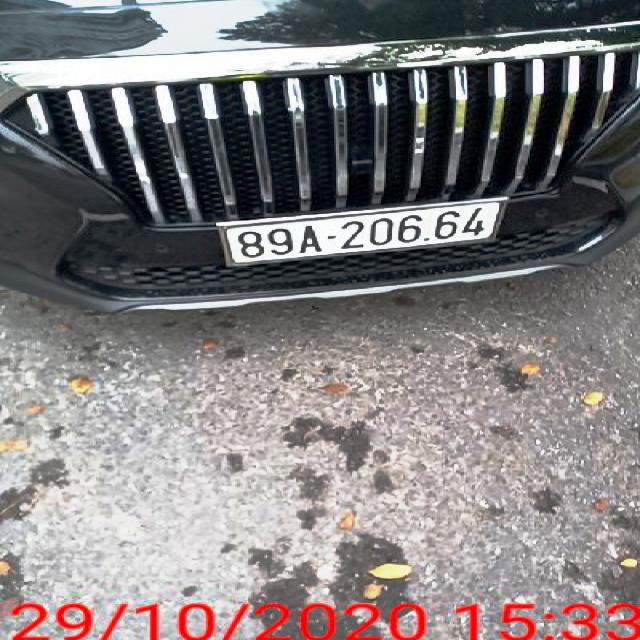license_plate: (225, 203, 504, 264)
